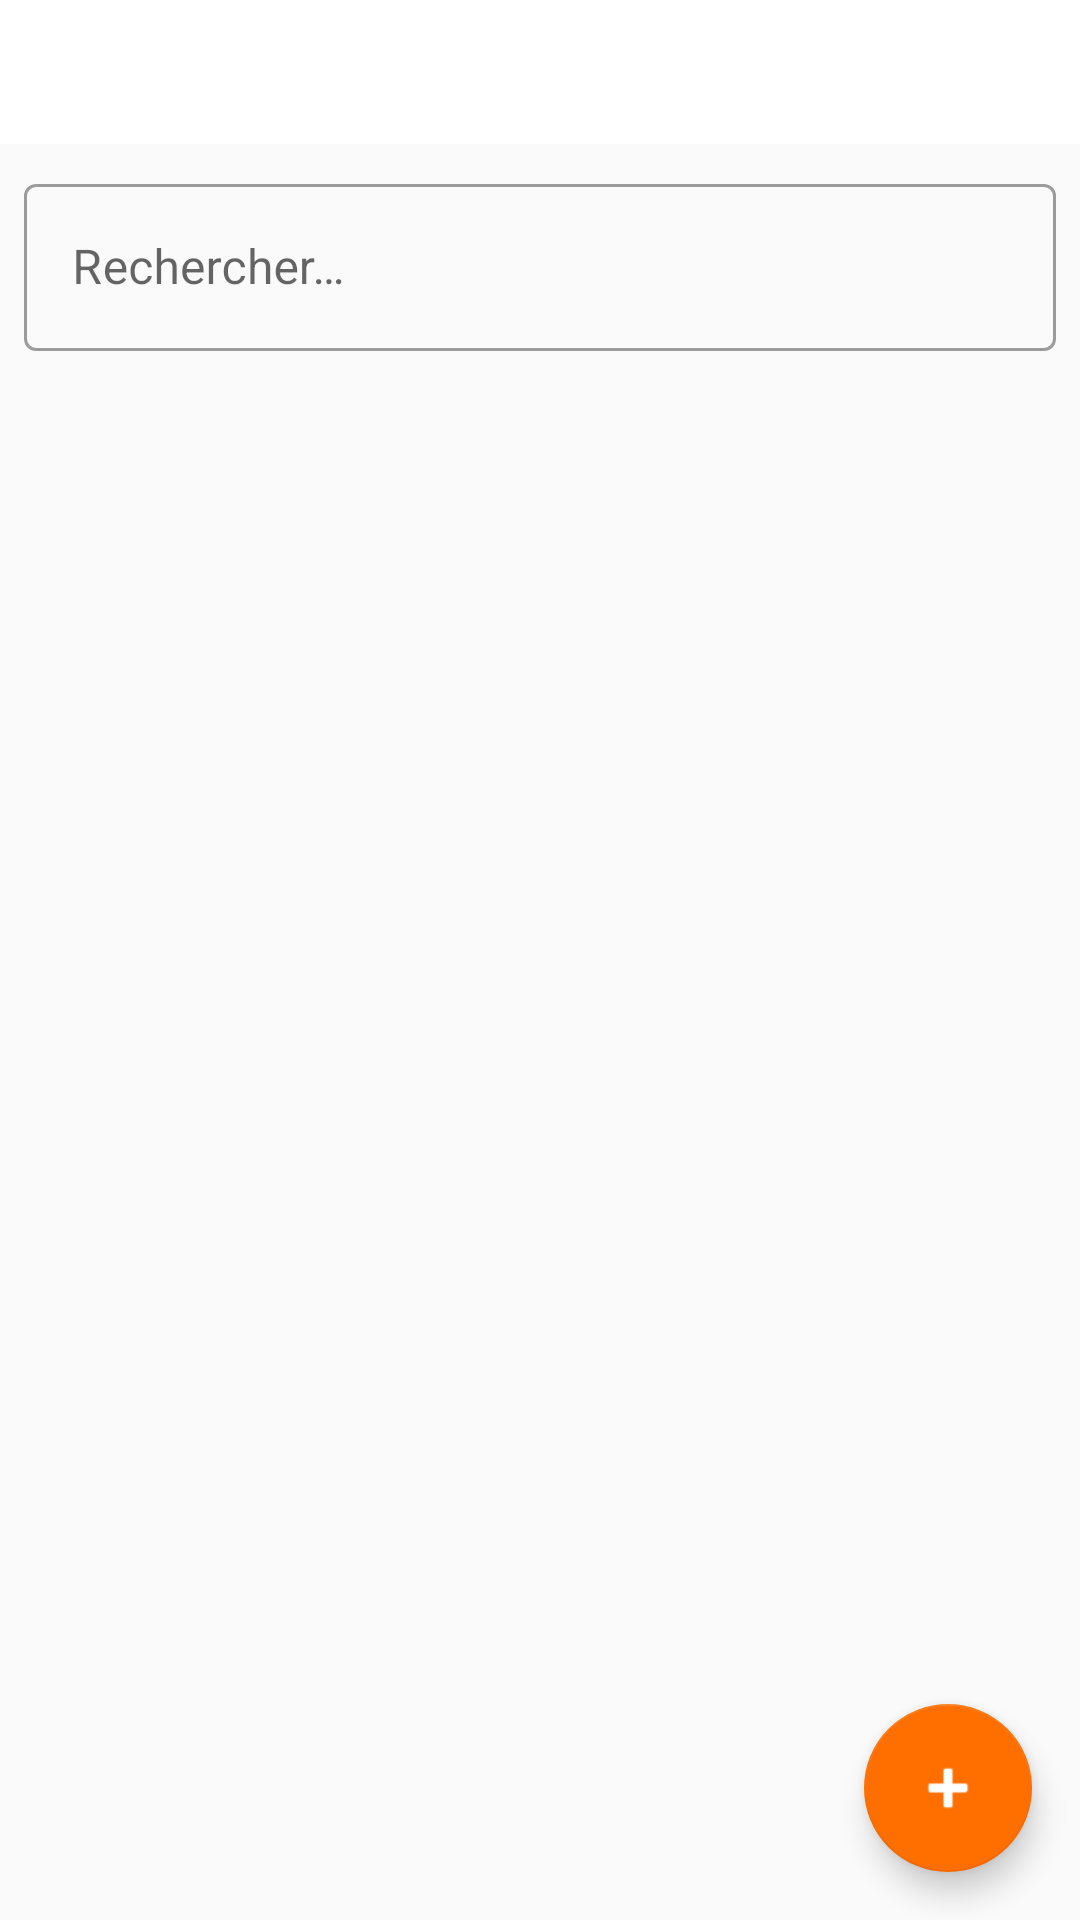

Screen size 1080×1920. Icon name, then its center in pixels as [x,y]:
Nouveau: [948,1788]
